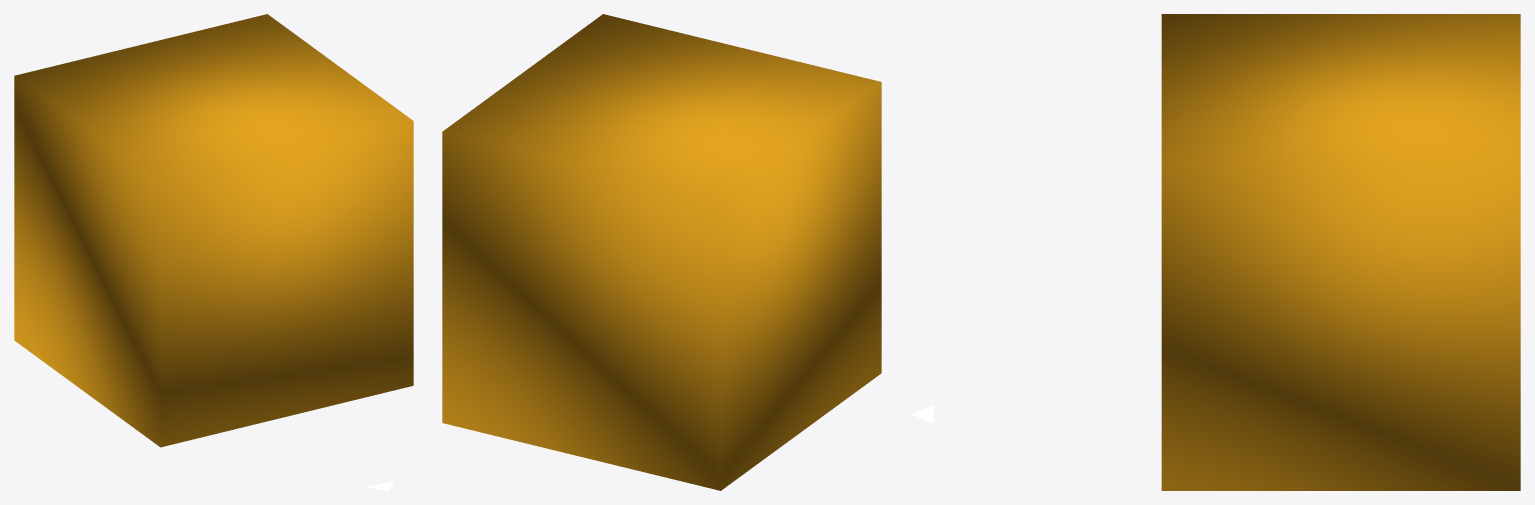
3 views of the same model, side by side, from view 1: azimuth 30°, elevation 25°; view 2: azimuth 150°, elevation 25°; view 3: azimuth 270°, elevation 25° (orthographic). The views are drawn at different scales.
Visible parts, largest first — view 1: Cube; view 2: Cube; view 3: Cube.
Boxes of the visible parts, box(x1,y1,x2,y2) form: Cube: box(14, 14, 413, 447); Cube: box(442, 14, 881, 490); Cube: box(1161, 14, 1520, 490).
Size of the model in its own units: 2 by 2 by 3.4.
